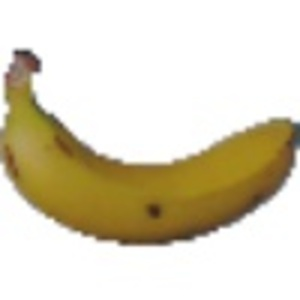banana: (1, 45, 298, 255)
